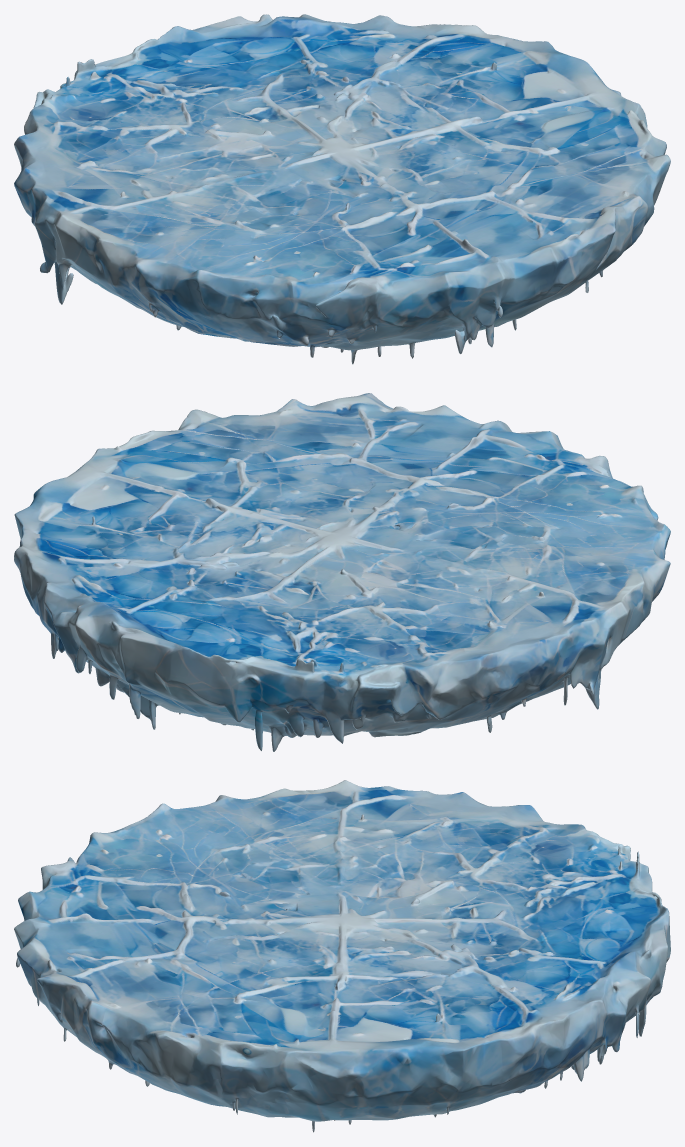
The model's file is nature-ice-pond.glb.
The picture shows the model from 3 angles, top to bottom: view 1: azimuth 30°, elevation 25°; view 2: azimuth 150°, elevation 25°; view 3: azimuth 270°, elevation 25°; orthographic projection.
Parts seen in each view (by area): view 1: tripo_node_07a2503f-db8b-4b9e-8e2e-5924bc45d981; view 2: tripo_node_07a2503f-db8b-4b9e-8e2e-5924bc45d981; view 3: tripo_node_07a2503f-db8b-4b9e-8e2e-5924bc45d981.
Part boxes in pixels (x1,y1,x2,y2): tripo_node_07a2503f-db8b-4b9e-8e2e-5924bc45d981: [14, 14, 670, 364]; tripo_node_07a2503f-db8b-4b9e-8e2e-5924bc45d981: [14, 393, 670, 751]; tripo_node_07a2503f-db8b-4b9e-8e2e-5924bc45d981: [14, 780, 670, 1132].
Size of the model in its own units: 0.391 by 0.1 by 0.3879.
Materials: 1 (1 with a texture image).
